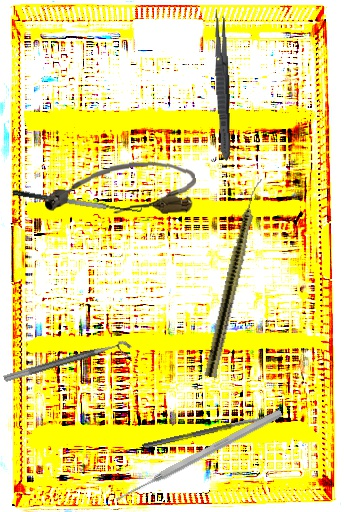Cannula: (42, 159, 198, 220)
Dressing Forceps: (211, 8, 234, 162)
Fixation Ring: (2, 338, 136, 393)
Handpiece: (203, 176, 265, 379)
Pusher: (113, 406, 284, 506)
Spatula Surgical: (12, 178, 144, 219)
Surgical Spoon: (142, 414, 272, 450)
